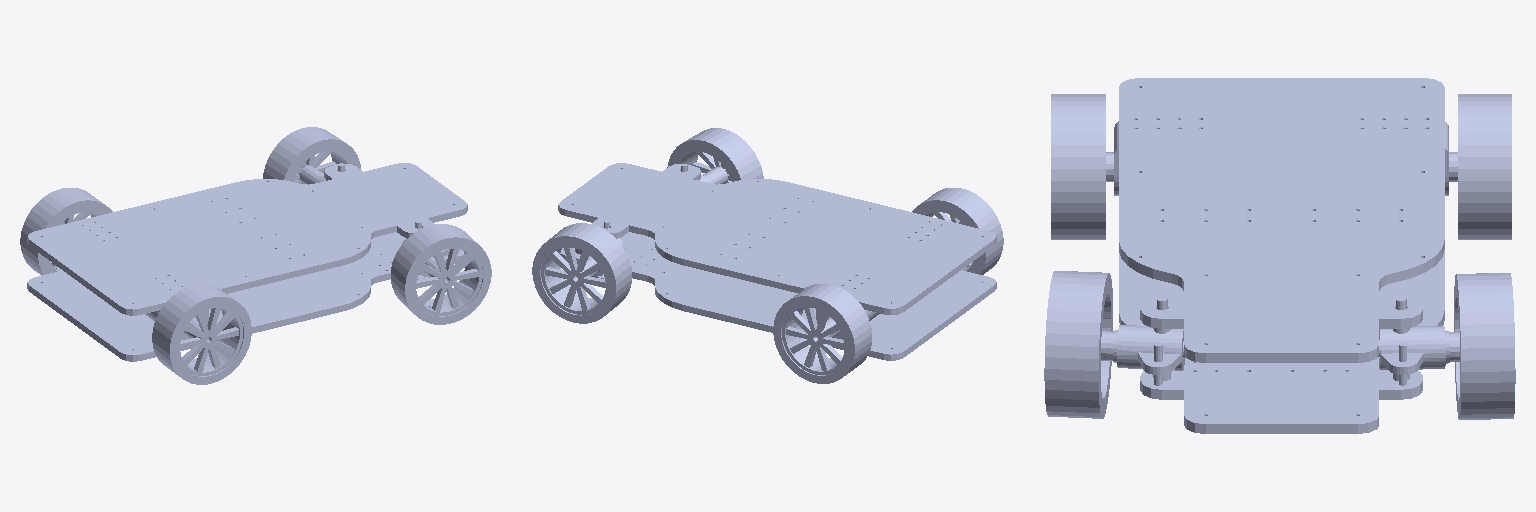
robot.urdf — ackermann_robot:
<?xml version="1.0" encoding="utf-8"?>
<!-- This URDF was automatically created by SolidWorks to URDF Exporter! Originally created by [author] ([email redacted]) 
     Commit Version: 1.6.0-1-g15f4949  Build Version: 1.6.7594.29634
     For more information, please see http://wiki.ros.org/sw_urdf_exporter -->
<robot name="ackermann_robot">
  
  <gazebo>
    <plugin name="gazebo_ros_control" filename="libgazebo_ros_control.so">
      <!--robotNamespace>/ackermann_model</robotNamespace-->
    </plugin>
  </gazebo>
  <!--Comentar>
  <link name="world">
    <visual>
      <geometry>
        <box size="0.01 0.01 0.01"/>
      </geometry>
      <material name="chassis_mat"/>
    </visual>
  </link>
  <gazebo reference="base_link">
    <material>Gazebo/Black</material>
  </gazebo>
  <joint name="world_to_base_link" type="fixed">
    <parent link="world"/>
    <child link="base_link"/>
  </joint-->

   <link name="base_link">
    <inertial>
      <origin
        xyz="8.858E-05 -1.9843E-06 0.020487"
        rpy="0 0 0" />
      <mass
        value="0.3999" />
      <inertia
        ixx="0.00065026"
        ixy="-8.0029E-08"
        ixz="-1.4859E-21"
        iyy="0.0027365"
        iyz="-1.4915E-21"
        izz="0.0033851" />
    </inertial>
    <visual>
      <origin
        xyz="0 0 0"
        rpy="0 0 0" />
      <geometry>
        <mesh
          filename="package://ackermann_robot_description/meshes/base_link.STL" />
      </geometry>
      <material
        name="">
        <color
          rgba="0.79216 0.81961 0.93333 1" />
      </material>
    </visual>
    <collision>
      <origin
        xyz="0 0 0"
        rpy="0 0 0" />
      <geometry>
        <mesh
          filename="package://ackermann_robot_description/meshes/base_link.STL" />
      </geometry>
    </collision>
  </link>
  <link name="right_front_axle_carrier">
    <inertial>
      <origin
        xyz="0.0014472 -0.0045945 1.0684E-07"
        rpy="0 0 0" />
      <mass
        value="0.012162" />
      <inertia
        ixx="1.1801E-06"
        ixy="-7.7079E-08"
        ixz="-2.8872E-13"
        iyy="8.0582E-07"
        iyz="6.3391E-14"
        izz="1.3986E-06" />
    </inertial>
    <visual>
      <origin
        xyz="0 0 0"
        rpy="0 0 0" />
      <geometry>
        <mesh
          filename="package://ackermann_robot_description/meshes/right_front_axle_carrier.STL" />
      </geometry>
      <material
        name="">
        <color
          rgba="0.79216 0.81961 0.93333 1" />
      </material>
    </visual>
    <collision>
      <origin
        xyz="0 0 0"
        rpy="0 0 0" />
      <geometry>
        <mesh
          filename="package://ackermann_robot_description/meshes/right_front_axle_carrier.STL" />
      </geometry>
    </collision>
  </link>
  <joint name="right_steering_joint" type="revolute">
    <origin xyz="0.11246 -0.055004 0.020259" rpy="0 0 -0.10142" />
    <parent link="base_link" />
    <child
      link="right_front_axle_carrier" />
    <axis
      xyz="0 0 1" />
    <limit
      lower="-0.4"
      upper="0.5"
      effort="0.5"
      velocity="1" />
  </joint>
  <transmission name="right_steering_trans">
    <type>transmission_interface/SimpleTransmission</type>
    <joint name="right_steering_joint">
      <hardwareInterface>hardware_interface/EffortJointInterface</hardwareInterface>
    </joint>
    <actuator name="right_steering_act">
      <hardwareInterface>hardware_interface/EffortJointInterface</hardwareInterface>
      <mechanicalReduction>1</mechanicalReduction>
    </actuator>
  </transmission>

  <link name="right_front_wheel">
    <inertial>
      <origin
        xyz="0 -0.0032519 -9.2198E-17"
        rpy="0 0 0" />
      <mass
        value="0.04847" />
      <inertia
        ixx="2.1185E-05"
        ixy="1.3976E-20"
        ixz="-3.0394E-21"
        iyy="3.7185E-05"
        iyz="-3.4283E-20"
        izz="2.1185E-05" />
    </inertial>
    <visual>
      <origin
        xyz="0 0 0"
        rpy="0 0 0" />
      <geometry>
        <mesh
          filename="package://ackermann_robot_description/meshes/right_front_wheel.STL" />
      </geometry>
      <material
        name="">
        <color
          rgba="0.79216 0.81961 0.93333 1" />
      </material>
    </visual>
    <collision>
      <origin
        xyz="0 0 0"
        rpy="0 0 0" />
      <geometry>
        <mesh
          filename="package://ackermann_robot_description/meshes/right_front_wheel.STL" />
      </geometry>
    </collision>
  </link>
  <joint name="right_front_axle" type="continuous">
    <origin xyz="0 -0.0355 0" rpy="0 0 0" />
    <parent link="right_front_axle_carrier" />
    <child link="right_front_wheel" />
    <axis xyz="0 1 0" />
    <limit effort="5" velocity="15"/>
  </joint>
  <transmission name="right_front_axle_trans">
    <type>transmission_interface/SimpleTransmission</type>
    <joint name="right_front_axle">
      <hardwareInterface>hardware_interface/EffortJointInterface</hardwareInterface>
    </joint>
    <actuator name="right_front_axle_act">
      <hardwareInterface>hardware_interface/EffortJointInterface</hardwareInterface>
      <mechanicalReduction>1</mechanicalReduction>
    </actuator>
  </transmission>

  <link name="left_front_axle_carrier">
    <inertial>
      <origin
        xyz="0.0014472 0.0045945 -1.0684E-07"
        rpy="0 0 0" />
      <mass
        value="0.012162" />
      <inertia
        ixx="1.1801E-06"
        ixy="7.7079E-08"
        ixz="2.8872E-13"
        iyy="8.0582E-07"
        iyz="6.3391E-14"
        izz="1.3986E-06" />
    </inertial>
    <visual>
      <origin
        xyz="0 0 0"
        rpy="0 0 0" />
      <geometry>
        <mesh
          filename="package://ackermann_robot_description/meshes/left_front_axle_carrier.STL" />
      </geometry>
      <material
        name="">
        <color
          rgba="0.79216 0.81961 0.93333 1" />
      </material>
    </visual>
    <collision>
      <origin
        xyz="0 0 0"
        rpy="0 0 0" />
      <geometry>
        <mesh
          filename="package://ackermann_robot_description/meshes/left_front_axle_carrier.STL" />
      </geometry>
    </collision>
  </link>
  <joint name="left_steering_joint" type="revolute">
    <origin
      xyz="0.11246 0.054996 0.020303"
      rpy="0 0 0.049922" />
    <parent
      link="base_link" />
    <child
      link="left_front_axle_carrier" />
    <axis
      xyz="0 0 1" />
    <limit
      lower="-0.4"
      upper="0.5"
      effort="0.5"
      velocity="1" />
  </joint>
  <transmission name="left_steering_trans">
    <type>transmission_interface/SimpleTransmission</type>
    <joint name="left_steering_joint">
      <hardwareInterface>hardware_interface/EffortJointInterface</hardwareInterface>
    </joint>
    <actuator name="left_steering_act">
      <hardwareInterface>hardware_interface/EffortJointInterface</hardwareInterface>
      <mechanicalReduction>1</mechanicalReduction>
    </actuator>
  </transmission>
  
  <link name="left_front_wheel">
    <inertial>
      <origin
        xyz="2.7756E-17 0.0032519 9.3404E-17"
        rpy="0 0 0" />
      <mass
        value="0.04847" />
      <inertia
        ixx="2.1185E-05"
        ixy="-1.6517E-20"
        ixz="4.112E-21"
        iyy="3.7185E-05"
        iyz="-3.4164E-20"
        izz="2.1185E-05" />
    </inertial>
    <visual>
      <origin
        xyz="0 0 0"
        rpy="0 0 0" />
      <geometry>
        <mesh
          filename="package://ackermann_robot_description/meshes/left_front_wheel.STL" />
      </geometry>
      <material
        name="">
        <color
          rgba="0.79216 0.81961 0.93333 1" />
      </material>
    </visual>
    <collision>
      <origin
        xyz="0 0 0"
        rpy="0 0 0" />
      <geometry>
        <mesh
          filename="package://ackermann_robot_description/meshes/left_front_wheel.STL" />
      </geometry>
    </collision>
  </link>
  <joint name="left_front_axle" type="continuous">
    <origin xyz="0 0.0355 0" rpy="0 0 0" />
    <parent link="left_front_axle_carrier" />
    <child link="left_front_wheel" />
    <axis xyz="0 1 0" />
    <limit effort="5" velocity="15"/>
  </joint>
  <transmission name="left_front_axle_trans">
    <type>transmission_interface/SimpleTransmission</type>
    <joint name="left_front_axle">
      <hardwareInterface>hardware_interface/EffortJointInterface</hardwareInterface>
    </joint>
    <actuator name="left_front_axle_act">
      <hardwareInterface>hardware_interface/EffortJointInterface</hardwareInterface>
      <mechanicalReduction>1</mechanicalReduction>
    </actuator>
  </transmission>

  <link name="right_rear_axle_carrier">
    <inertial>
      <origin
        xyz="0 0.02273 0.0026785"
        rpy="0 0 0" />
      <mass
        value="0.032121" />
      <inertia
        ixx="8.4438E-06"
        ixy="9.7303E-22"
        ixz="-1.6257E-22"
        iyy="2.811E-06"
        iyz="-4.3914E-07"
        izz="8.6197E-06" />
    </inertial>
    <visual>
      <origin
        xyz="0 0 0"
        rpy="0 0 0" />
      <geometry>
        <mesh
          filename="package://ackermann_robot_description/meshes/right_rear_axle_carrier.STL" />
      </geometry>
      <material
        name="">
        <color
          rgba="0.79216 0.81961 0.93333 1" />
      </material>
    </visual>
    <collision>
      <origin
        xyz="0 0 0"
        rpy="0 0 0" />
      <geometry>
        <mesh
          filename="package://ackermann_robot_description/meshes/right_rear_axle_carrier.STL" />
      </geometry>
    </collision>
  </link>
  <joint name="right_rear_fixed" type="fixed">
    <origin
      xyz="-0.087539 -0.074004 0.019"
      rpy="0 0 0" />
    <parent
      link="base_link" />
    <child
      link="right_rear_axle_carrier" />
    <axis
      xyz="0 0 0" />
  </joint>
  <link name="right_rear_wheel">
    <inertial>
      <origin
        xyz="1.3878E-17 -0.0032519 -1.0387E-16"
        rpy="0 0 0" />
      <mass
        value="0.04847" />
      <inertia
        ixx="2.1185E-05"
        ixy="1.7085E-20"
        ixz="-4.3879E-21"
        iyy="3.7185E-05"
        iyz="-3.5493E-20"
        izz="2.1185E-05" />
    </inertial>
    <visual>
      <origin
        xyz="0 0 0"
        rpy="0 0 0" />
      <geometry>
        <mesh
          filename="package://ackermann_robot_description/meshes/right_rear_wheel.STL" />
      </geometry>
      <material
        name="">
        <color
          rgba="0.79216 0.81961 0.93333 1" />
      </material>
    </visual>
    <collision>
      <origin
        xyz="0 0 0"
        rpy="0 0 0" />
      <geometry>
        <mesh
          filename="package://ackermann_robot_description/meshes/right_rear_wheel.STL" />
      </geometry>
    </collision>
  </link>
  <joint name="right_rear_axle" type="continuous">
    <origin xyz="0 -0.0165 0" rpy="0 0 0" />
    <parent link="right_rear_axle_carrier" />
    <child link="right_rear_wheel" />
    <axis xyz="0 1 0" />
    <limit effort="5" velocity="15"/>
  </joint>
  <transmission name="right_rear_axle_trans">
    <type>transmission_interface/SimpleTransmission</type>
    <joint name="right_rear_axle">
      <hardwareInterface>hardware_interface/EffortJointInterface</hardwareInterface>
    </joint>
    <actuator name="right_rear_axle_act">
      <hardwareInterface>hardware_interface/EffortJointInterface</hardwareInterface>
      <mechanicalReduction>1</mechanicalReduction>
    </actuator>
  </transmission>

  <link name="left_rear_axle_carrier">
    <inertial>
      <origin
        xyz="2.7756E-17 -0.02273 0.0026785"
        rpy="0 0 0" />
      <mass
        value="0.032121" />
      <inertia
        ixx="8.4438E-06"
        ixy="7.4384E-22"
        ixz="2.7615E-22"
        iyy="2.811E-06"
        iyz="4.3914E-07"
        izz="8.6197E-06" />
    </inertial>
    <visual>
      <origin
        xyz="0 0 0"
        rpy="0 0 0" />
      <geometry>
        <mesh
          filename="package://ackermann_robot_description/meshes/left_rear_axle_carrier.STL" />
      </geometry>
      <material
        name="">
        <color
          rgba="0.79216 0.81961 0.93333 1" />
      </material>
    </visual>
    <collision>
      <origin
        xyz="0 0 0"
        rpy="0 0 0" />
      <geometry>
        <mesh
          filename="package://ackermann_robot_description/meshes/left_rear_axle_carrier.STL" />
      </geometry>
    </collision>
  </link>
  <joint name="left_rear_fixed" type="fixed">
    <origin
      xyz="-0.087539 0.073996 0.019"
      rpy="0 0 0" />
    <parent
      link="base_link" />
    <child
      link="left_rear_axle_carrier" />
    <axis
      xyz="0 0 0" />
  </joint>
  <link name="left_rear_wheel">
    <inertial>
      <origin
        xyz="5.5511E-17 0.0032519 -8.305E-17"
        rpy="0 0 0" />
      <mass
        value="0.04847" />
      <inertia
        ixx="2.1185E-05"
        ixy="-1.6287E-20"
        ixz="5.7903E-21"
        iyy="3.7185E-05"
        iyz="-3.7913E-20"
        izz="2.1185E-05" />
    </inertial>
    <visual>
      <origin
        xyz="0 0 0"
        rpy="0 0 0" />
      <geometry>
        <mesh
          filename="package://ackermann_robot_description/meshes/left_rear_wheel.STL" />
      </geometry>
      <material
        name="">
        <color
          rgba="0.79216 0.81961 0.93333 1" />
      </material>
    </visual>
    <collision>
      <origin
        xyz="0 0 0"
        rpy="0 0 0" />
      <geometry>
        <mesh
          filename="package://ackermann_robot_description/meshes/left_rear_wheel.STL" />
      </geometry>
    </collision>
  </link>
  <joint name="left_rear_axle" type="continuous">
    <origin xyz="0 0.0165 0" rpy="0 0 0" />
    <parent link="left_rear_axle_carrier" />
    <child link="left_rear_wheel" />
    <axis xyz="0 1 0" />
    <limit effort="5" velocity="15"/>
  </joint>
  <transmission name="left_rear_axle_trans">
    <type>transmission_interface/SimpleTransmission</type>
    <joint name="left_rear_axle">
      <hardwareInterface>hardware_interface/EffortJointInterface</hardwareInterface>
    </joint>
    <actuator name="left_rear_axle_act">
      <hardwareInterface>hardware_interface/EffortJointInterface</hardwareInterface>
      <mechanicalReduction>1</mechanicalReduction>
    </actuator>
  </transmission>
</robot>

--- What the picture shows (computed from the rendered views, not written in the file) ---
The picture shows the robot from 3 angles, left to right: view 1: azimuth 30°, elevation 25°; view 2: azimuth 150°, elevation 25°; view 3: azimuth 270°, elevation 25°; orthographic projection.
Robot: ackermann_robot — 9 links, 8 joints (2 revolute, 4 continuous, 2 fixed); root link base_link; default pose: all joints at 0.
Visible links, largest first — view 1: base_link, right_rear_wheel, right_front_wheel, left_front_wheel, left_rear_wheel; view 2: base_link, left_front_wheel, left_rear_wheel, right_front_wheel, right_rear_wheel; view 3: base_link, right_front_wheel, left_front_wheel, right_rear_wheel, left_rear_wheel, right_front_axle_carrier, left_front_axle_carrier.
Boxes of the visible links, x1,y1,x2,y2 form: base_link: [27, 163, 467, 361]; right_rear_wheel: [152, 284, 251, 384]; right_front_wheel: [391, 224, 491, 324]; left_front_wheel: [263, 127, 360, 184]; left_rear_wheel: [20, 188, 112, 275]; base_link: [558, 163, 996, 360]; left_front_wheel: [532, 223, 631, 323]; left_rear_wheel: [773, 283, 871, 383]; right_front_wheel: [667, 128, 763, 184]; right_rear_wheel: [912, 188, 1003, 274]; base_link: [1119, 78, 1444, 433]; right_front_wheel: [1044, 271, 1114, 418]; left_front_wheel: [1449, 273, 1515, 419]; right_rear_wheel: [1051, 94, 1113, 239]; left_rear_wheel: [1449, 94, 1511, 239]; right_front_axle_carrier: [1113, 297, 1185, 399]; left_front_axle_carrier: [1378, 297, 1449, 399].
Bounding box of the posed robot: 0.3 × 0.2168 × 0.0687 m (x, y, z).
Meshes: 9 distinct files referenced, 9 mesh visuals loaded (9 binary STL).